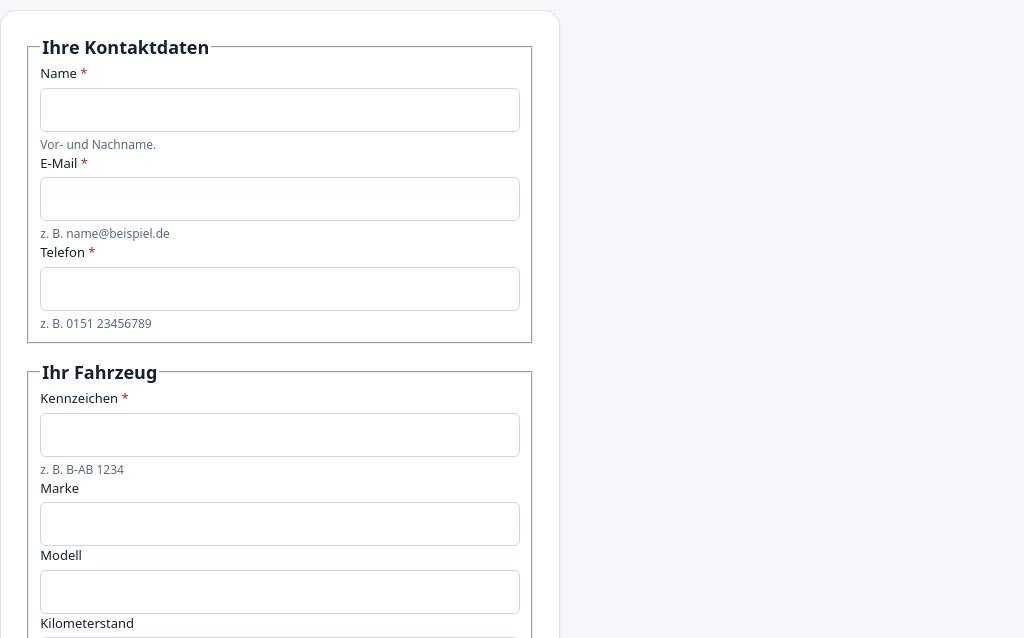
Test case: AppointmentPage › maps a 400 response to the matching field-level message
This screenshot has width=1024, height=638.
Type "Anna Schmidt" into the field labelled "Name *" at [280, 110], box [40,88,520,132]
Type "anna.schmidt@example.de" into the field labelled "E-Mail *" at [280, 199], box [40,177,520,221]
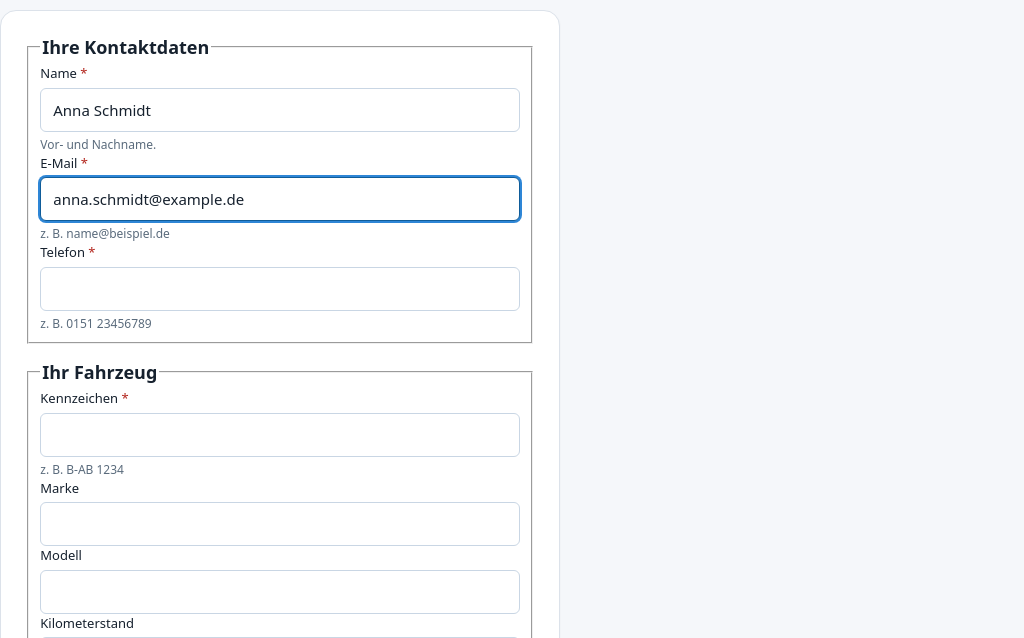
Type "0151 23456789" into the field labelled "Telefon *" at [280, 288], box [40,266,520,310]
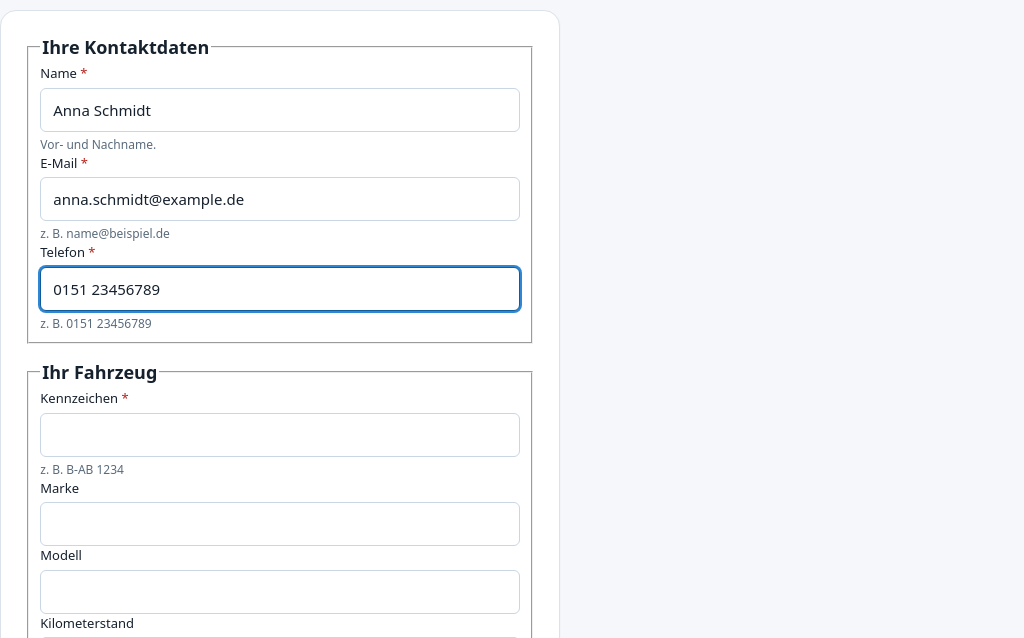
Type "B-AB 1234" into the field labelled "Kennzeichen *" at [280, 435], box [40,413,520,457]
(page scrolled)
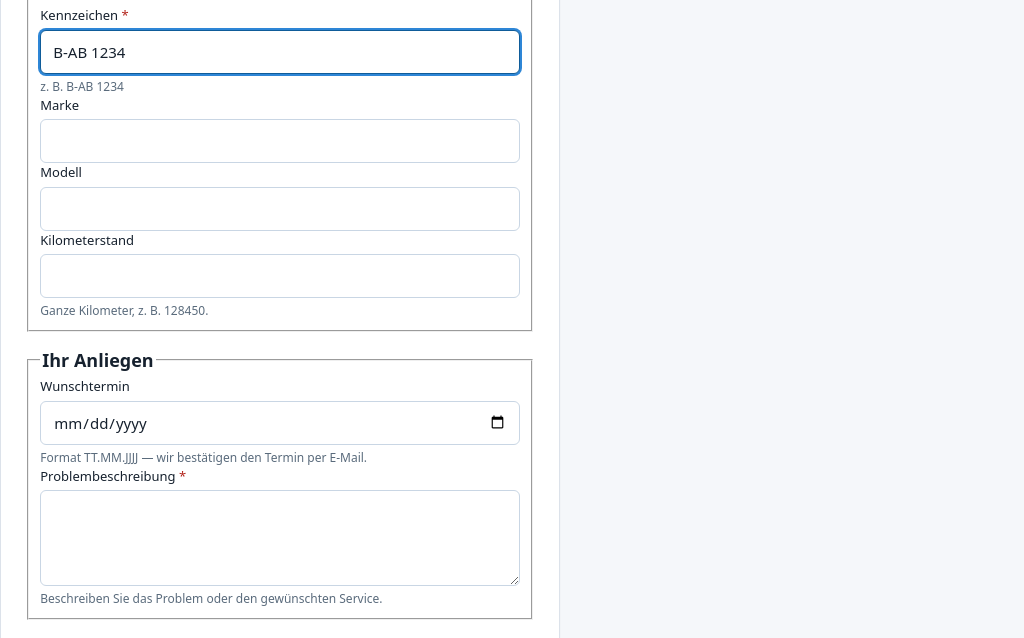
Type "128450" into the number field labelled "Kilometerstand" at [280, 276], box [40,254,520,298]
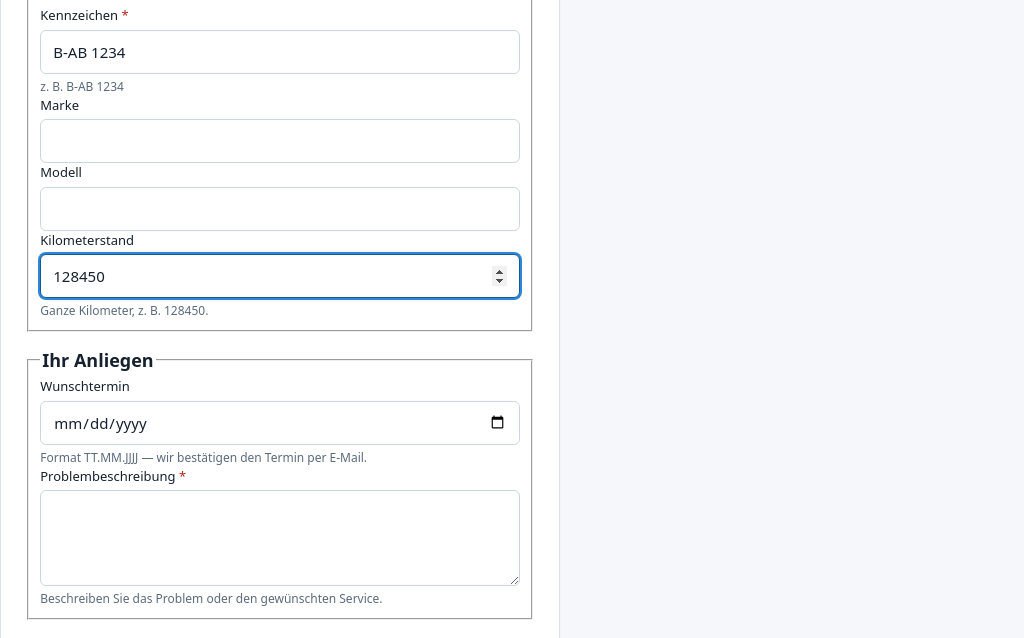
Type "2025-03-14" into the date field labelled "Wunschtermin" at [280, 423], box [40,401,520,445]
Type "Bremsen quietschen vorne." into the text box labelled "Problembeschreibung *" at [280, 538], box [40,490,520,586]
(page scrolled)
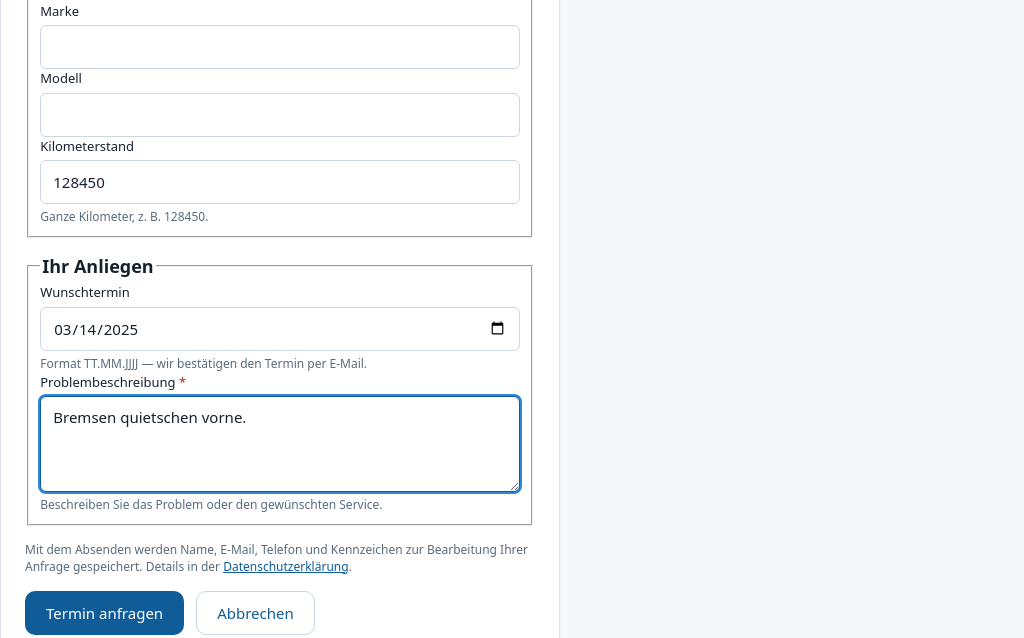
Click the button "Termin anfragen" at [105, 613], box [25,591,184,635]
(page scrolled)
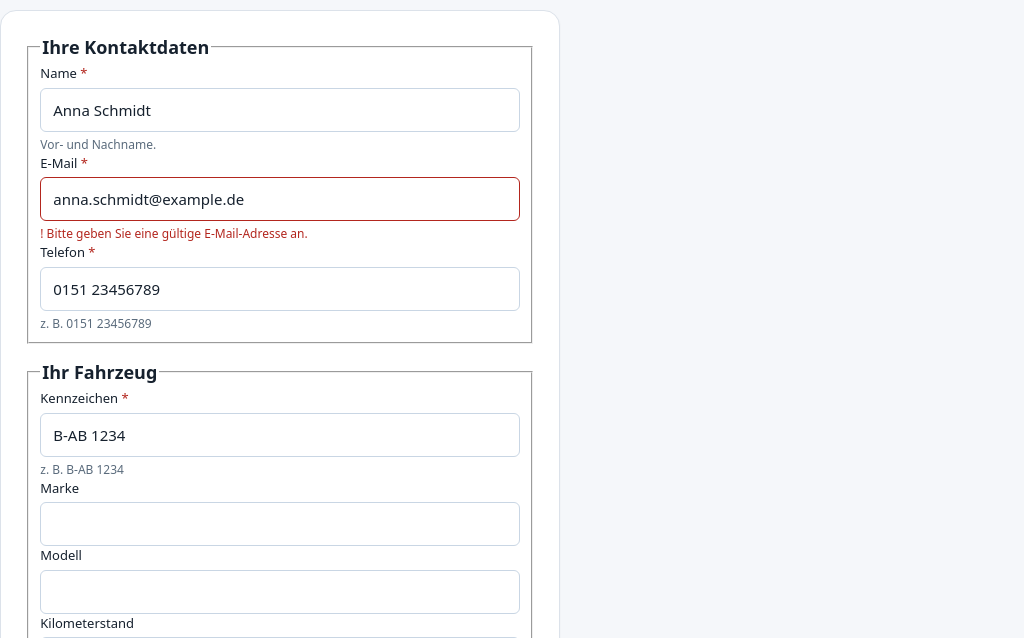
Now the text "! Bitte geben Sie eine gültige E-Mail-Adresse an." is shown, box [40,225,308,242]
